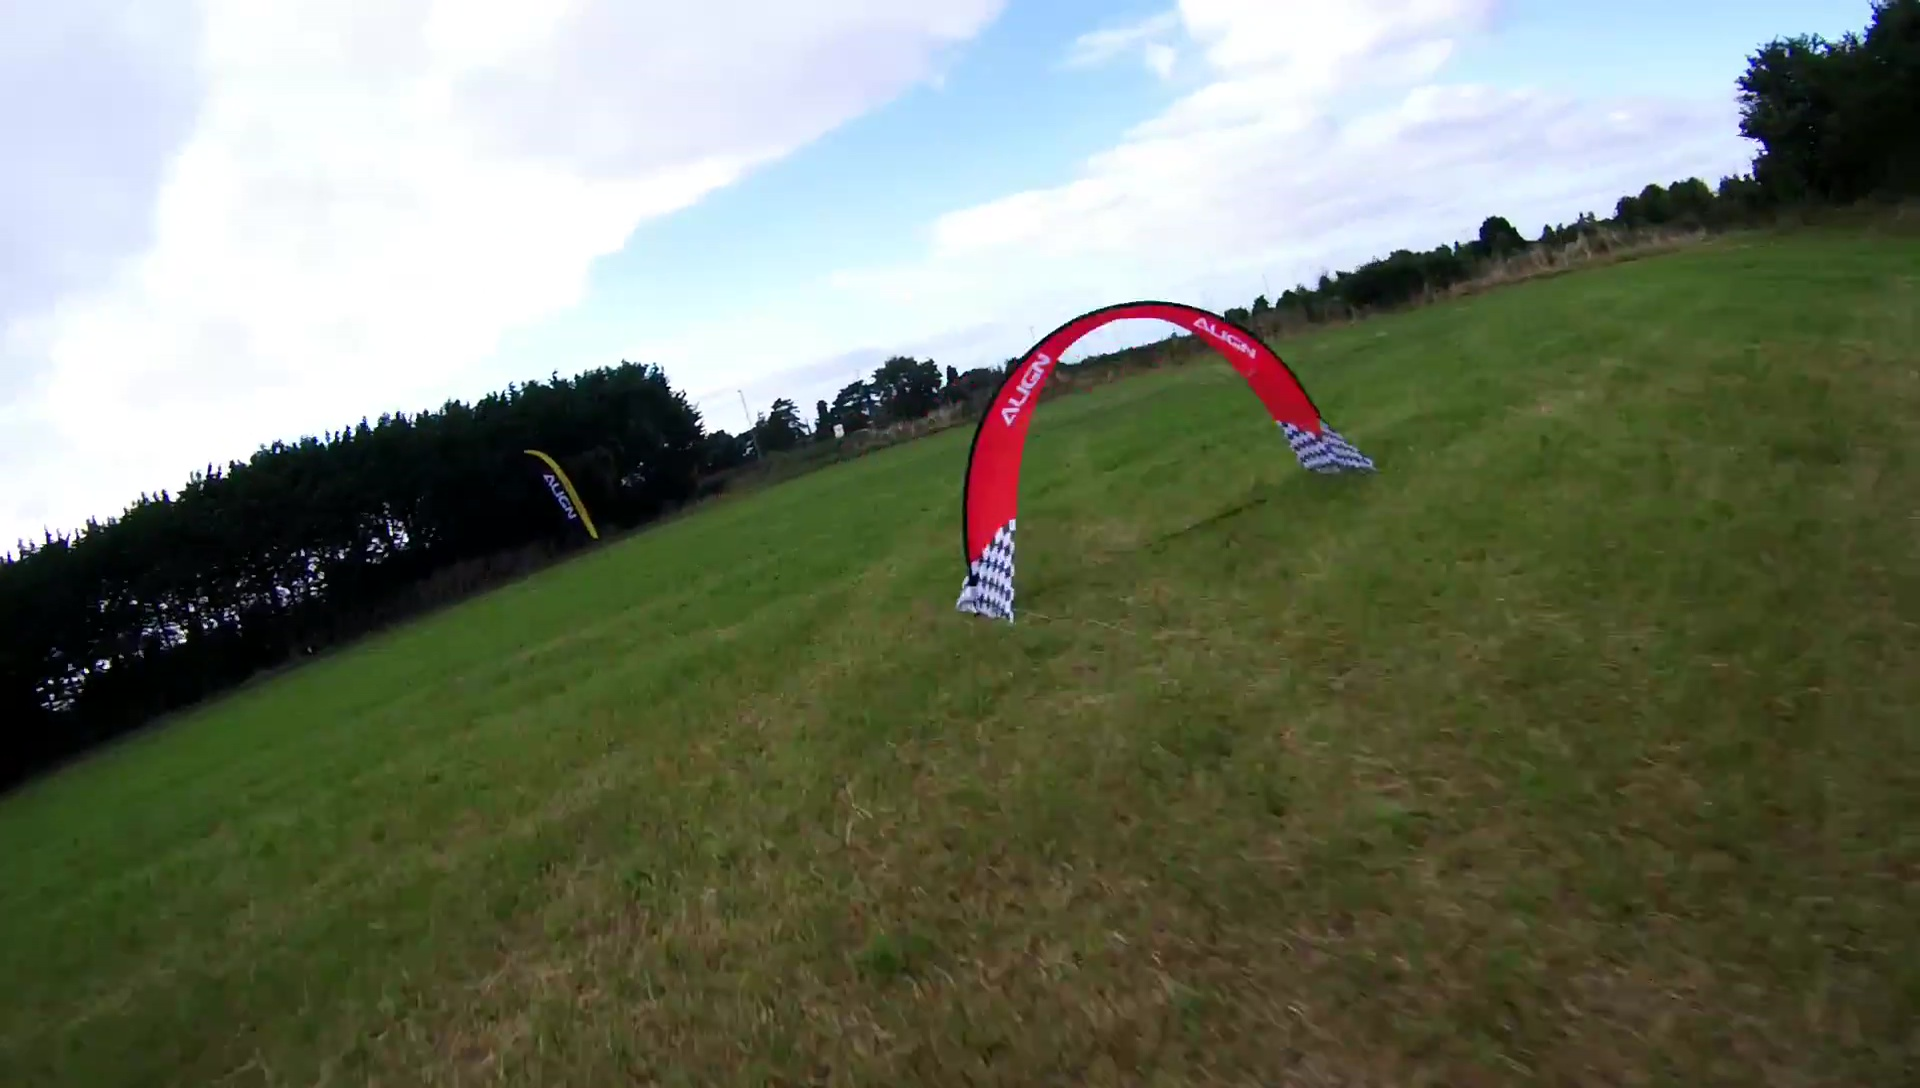gate: (957, 298, 1385, 626)
